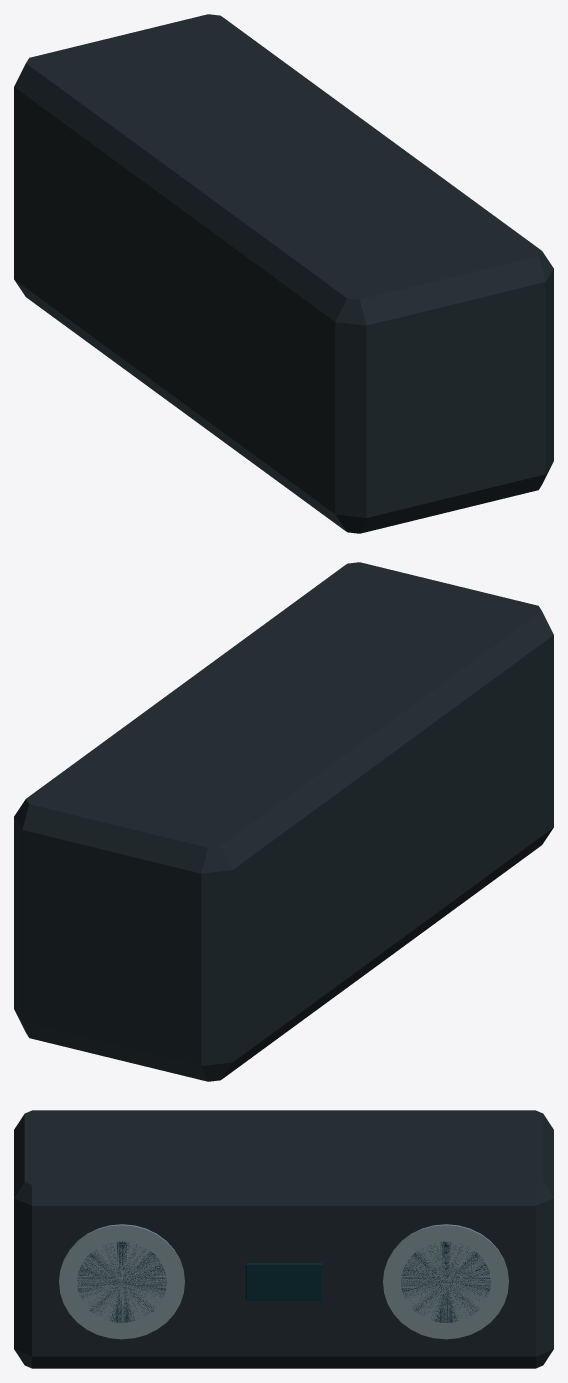
Rendered from camera.dae.
3 views of the same model, one above another, from view 1: azimuth 30°, elevation 25°; view 2: azimuth 150°, elevation 25°; view 3: azimuth 270°, elevation 25° (orthographic). The views are drawn at different scales.
Parts seen in each view (by area): view 1: part; view 2: part; view 3: part.
Boxes of the visible parts, left/top/right/bottom form: part: left=14, top=14, right=553, bottom=533; part: left=14, top=562, right=553, bottom=1081; part: left=14, top=1110, right=553, bottom=1368.
Bounding box in the file's own units: 0.0447 × 0.12 × 0.045.
